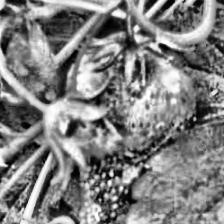Gray Mold: (66, 42, 195, 166)
